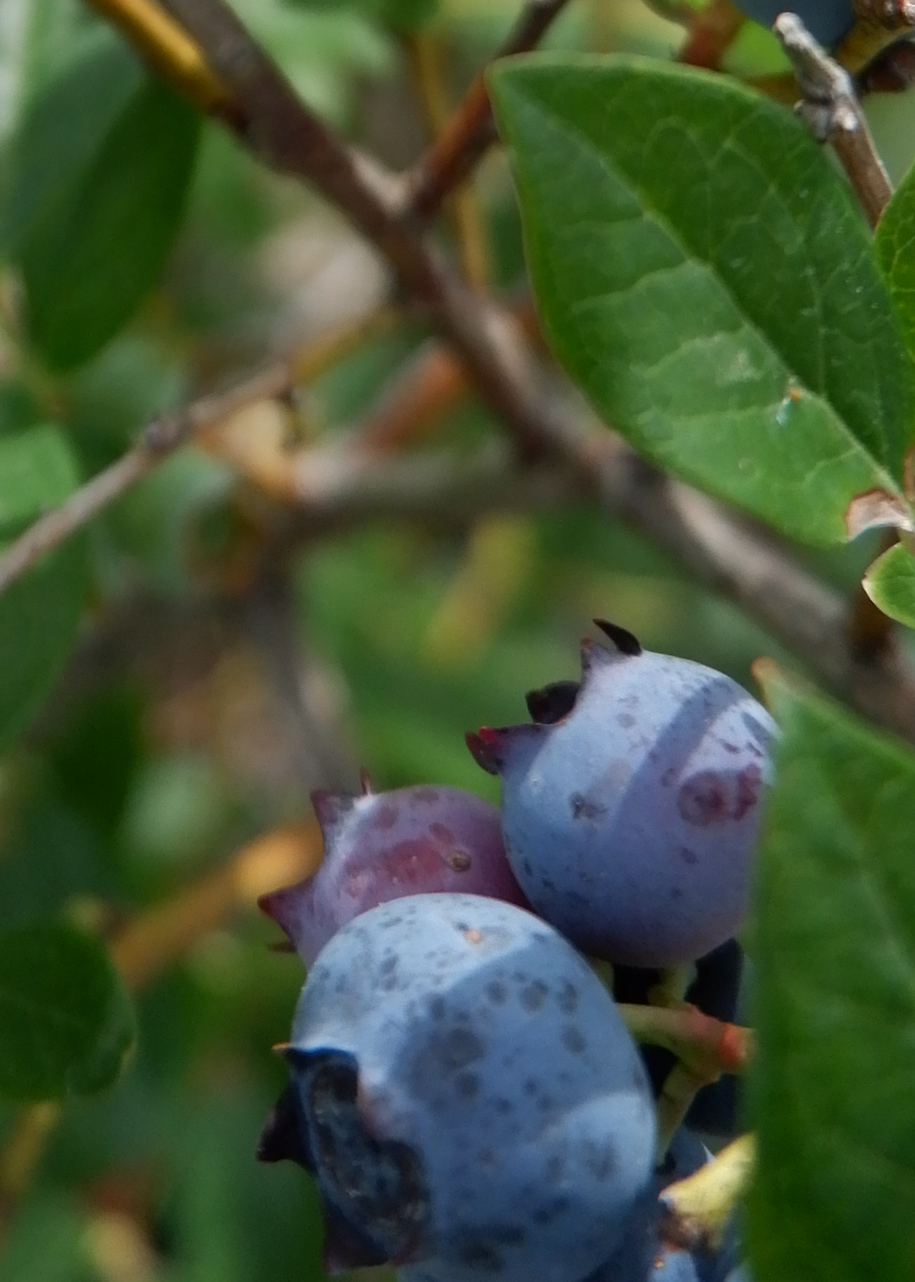Mature: (289, 906, 659, 1280), (476, 636, 771, 962), (276, 792, 519, 952)
